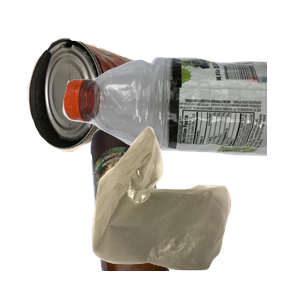glass: (88, 120, 252, 300)
metal: (25, 35, 189, 180)
plastic: (60, 53, 300, 201)
trash: (89, 124, 300, 300)
